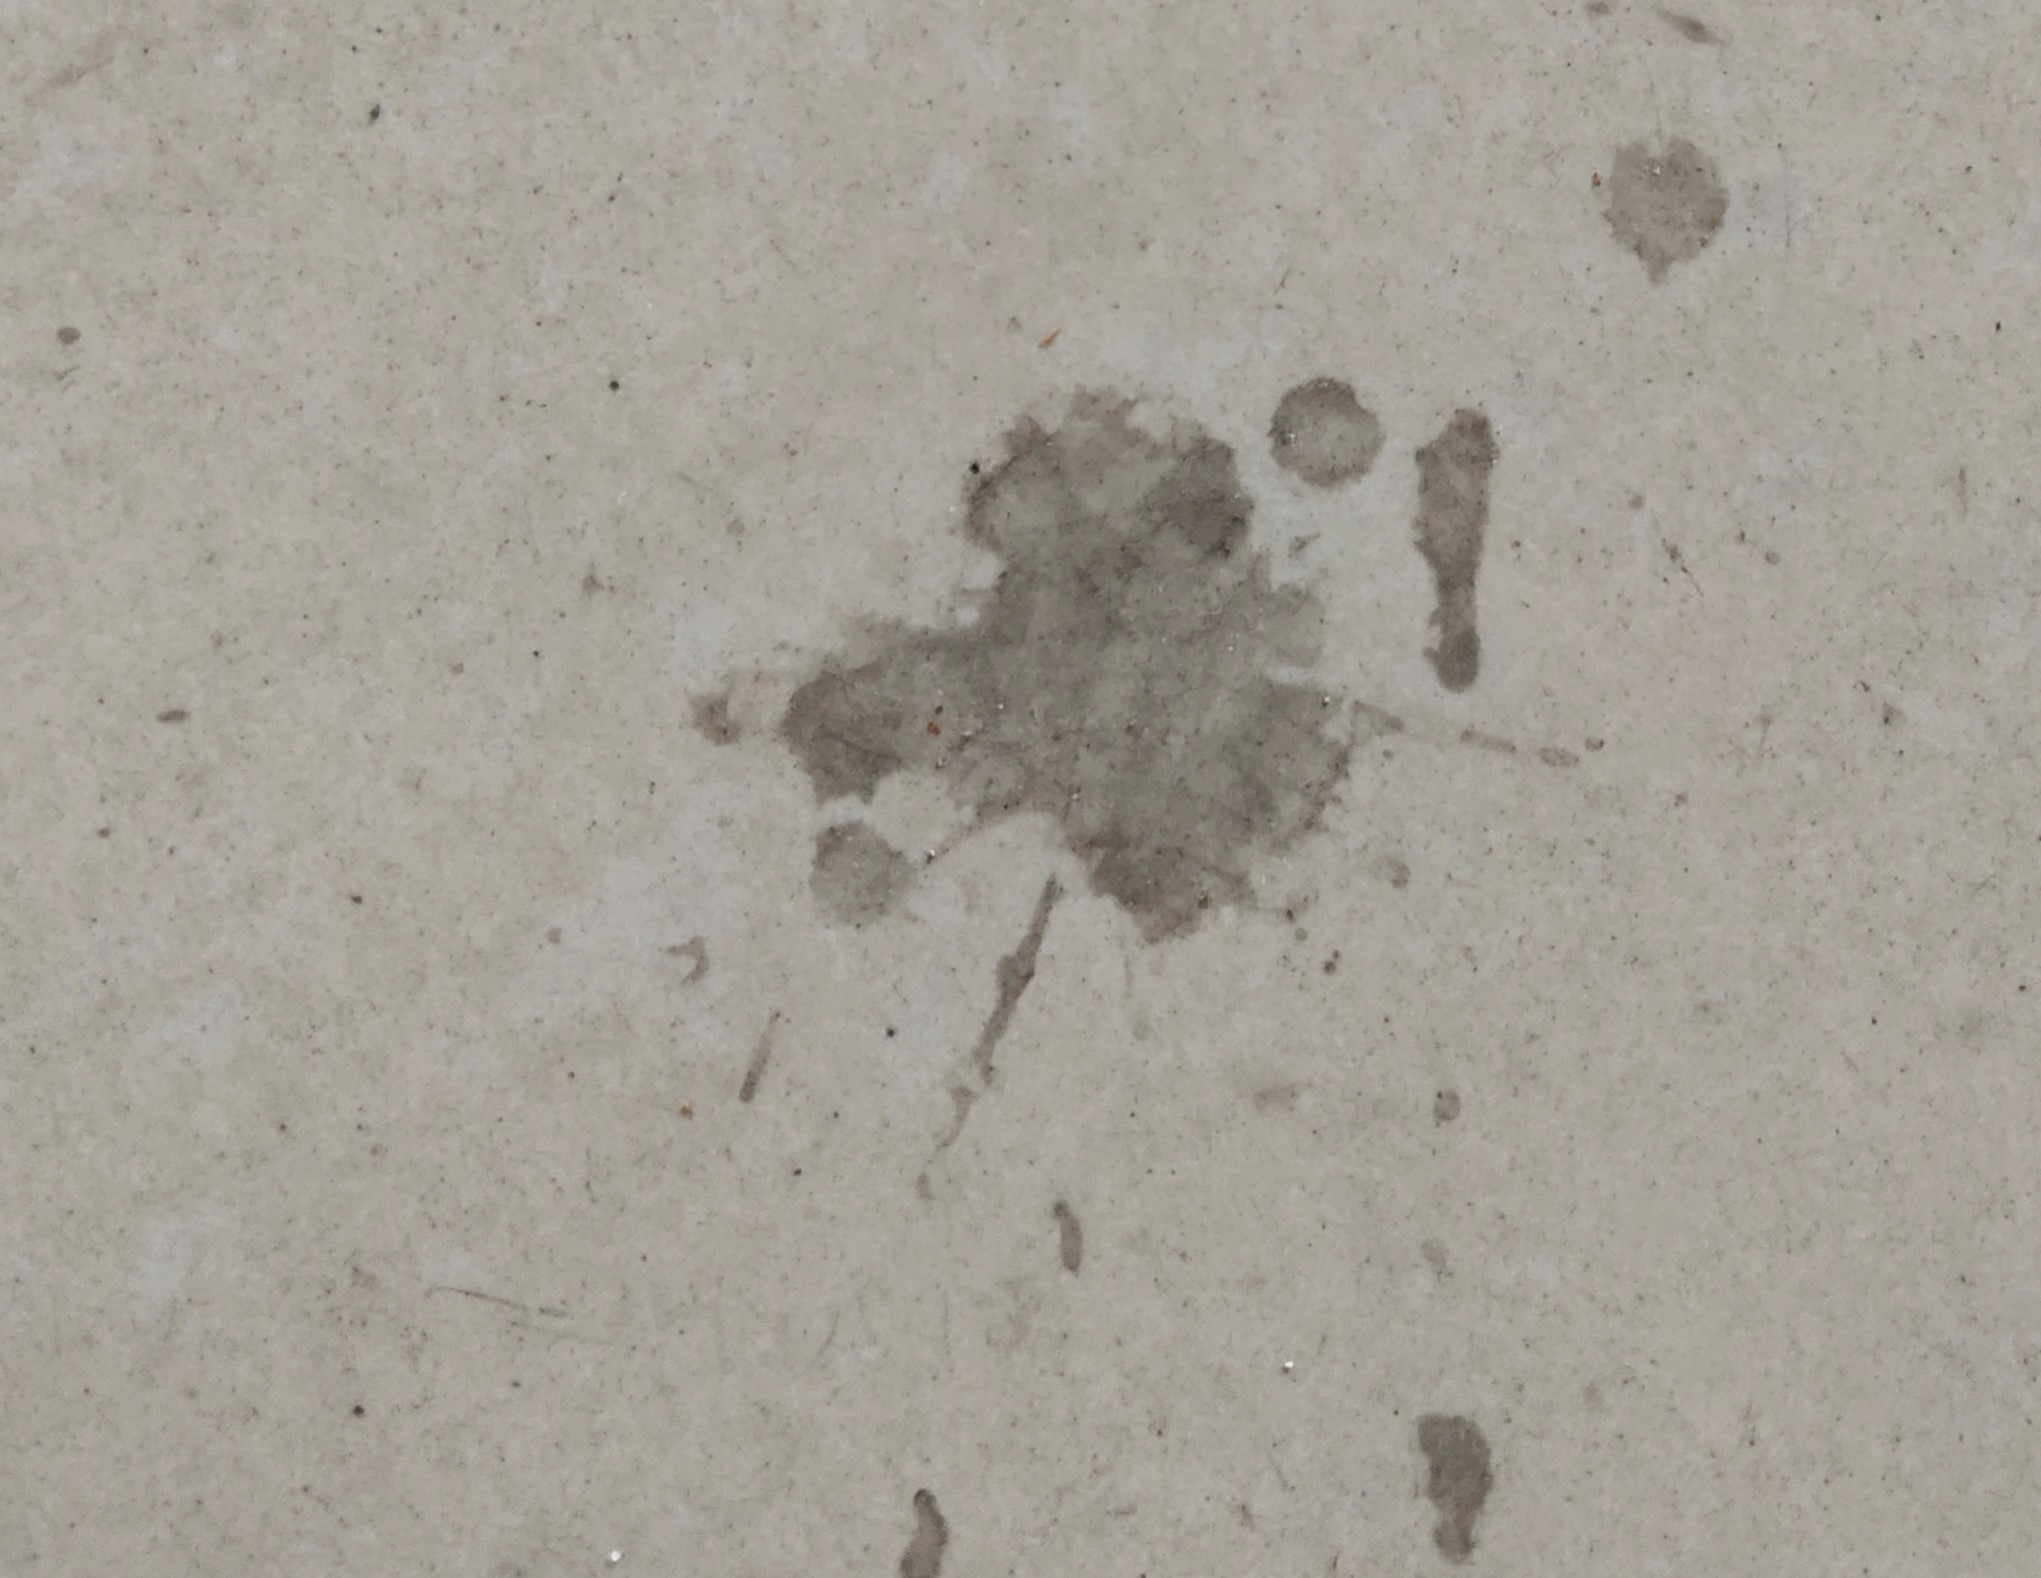grey spot: (775, 392, 1607, 1200), (1413, 411, 1504, 697), (1604, 137, 1730, 290), (1267, 379, 1383, 492), (1416, 1414, 1493, 1566), (812, 821, 908, 929), (896, 1484, 953, 1576)
